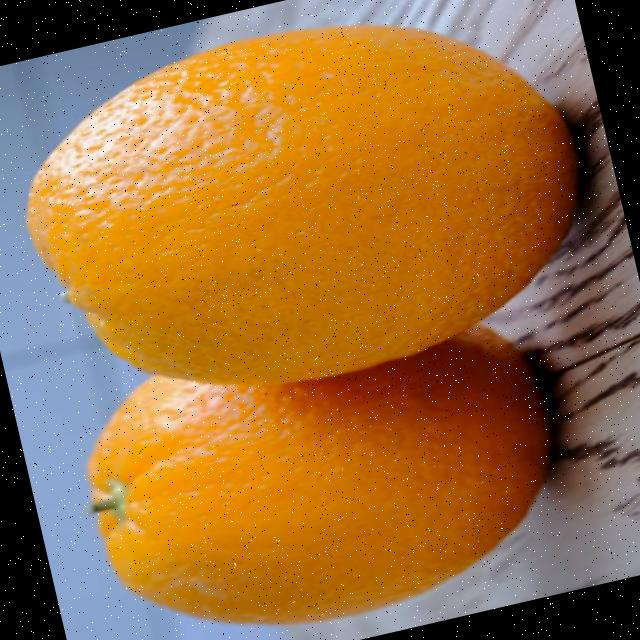Ripe: (0, 0, 619, 437), (59, 298, 594, 640)
